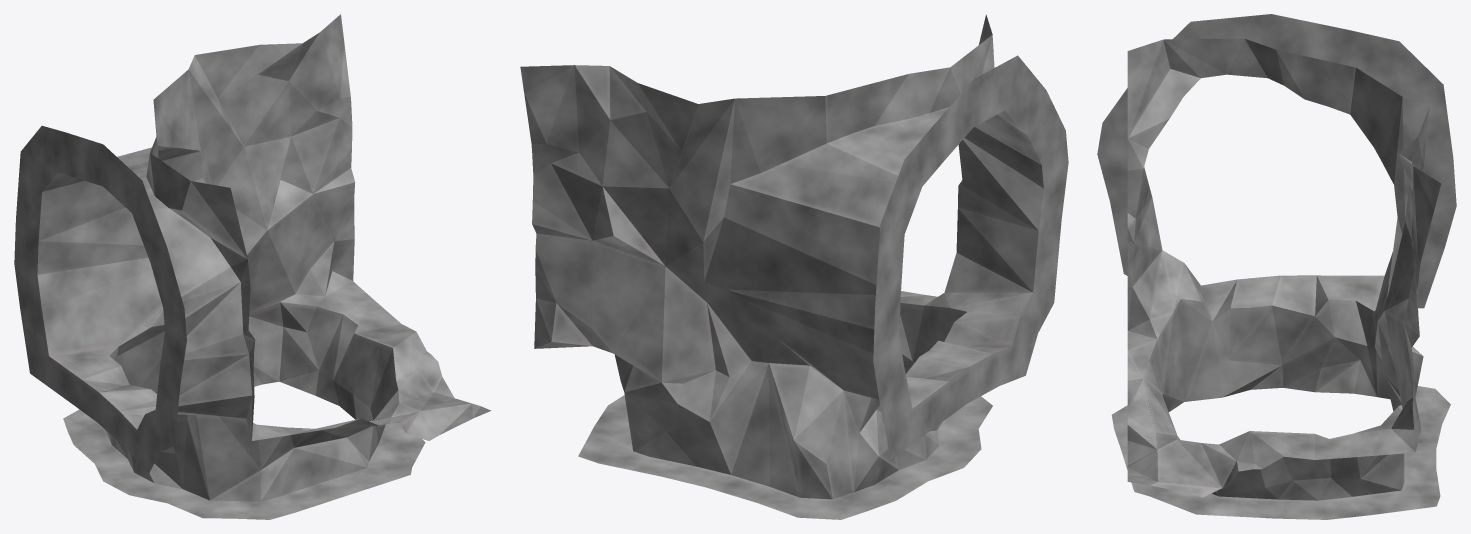
The model's file is CornerFloor1Replacer5.gltf.
3 views of the same model, side by side, from view 1: azimuth 30°, elevation 25°; view 2: azimuth 150°, elevation 25°; view 3: azimuth 270°, elevation 25° (orthographic). The views are drawn at different scales.
Visible parts, largest first — view 1: CornerFloor1Replacer5; view 2: CornerFloor1Replacer5; view 3: CornerFloor1Replacer5.
Boxes of the visible parts, <box> form: CornerFloor1Replacer5: <box>14,14,491,519</box>; CornerFloor1Replacer5: <box>520,14,1068,519</box>; CornerFloor1Replacer5: <box>1097,14,1456,519</box>.
Size of the model in its own units: 5 by 5.11 by 4.68.
1 material, 1 textured.
